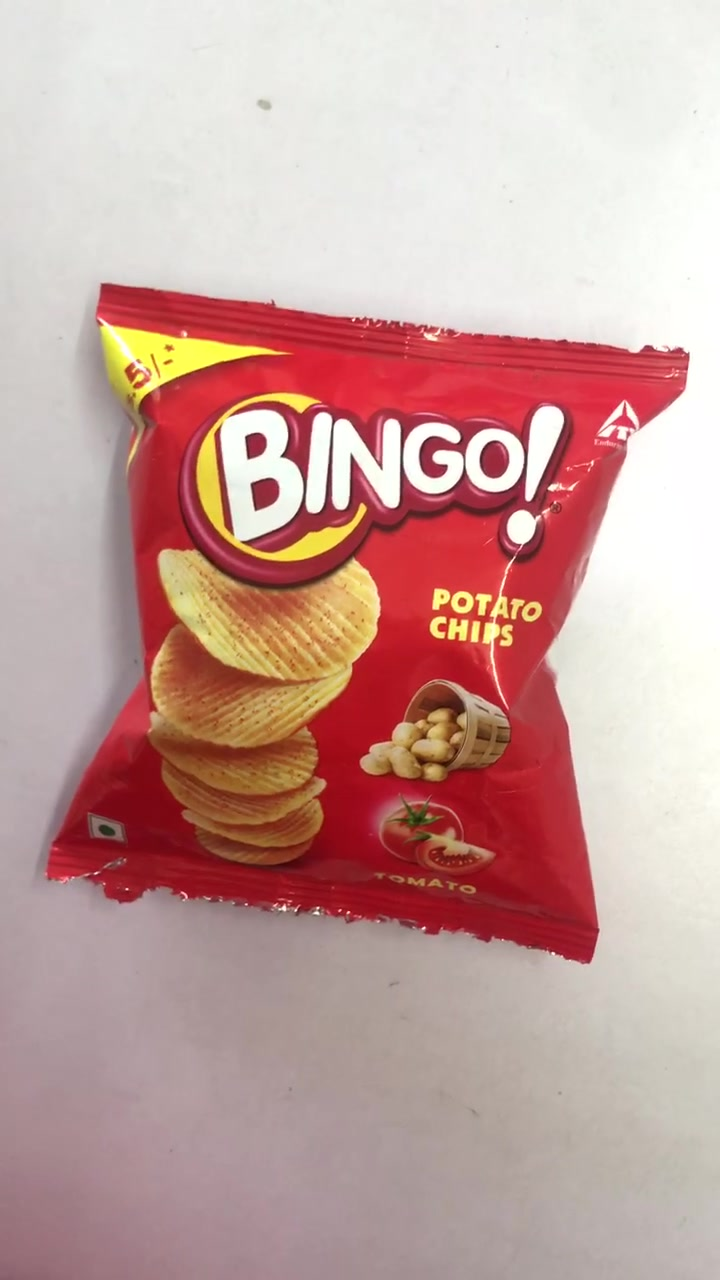Bingo: (48, 288, 688, 964)
